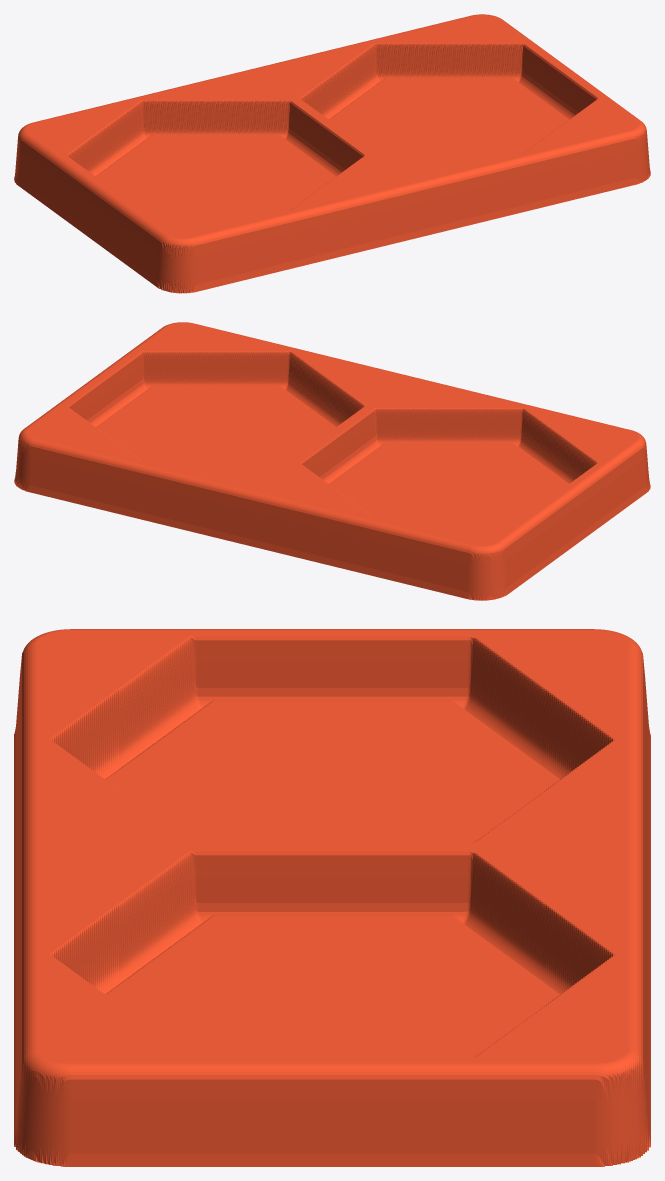
The model's file is mold.glb.
3 renders of one model, top to bottom at view 1: azimuth 30°, elevation 25°; view 2: azimuth 150°, elevation 25°; view 3: azimuth 270°, elevation 25°, orthographic. The views are drawn at different scales.
Parts seen in each view (by area): view 1: geometry_0; view 2: geometry_0; view 3: geometry_0.
Part boxes in pixels (<box>): geometry_0: <box>14,14,650,293</box>; geometry_0: <box>14,322,650,600</box>; geometry_0: <box>14,629,650,1166</box>.
Bounding box in the file's own units: 0.1704 × 0.0165 × 0.1015.
